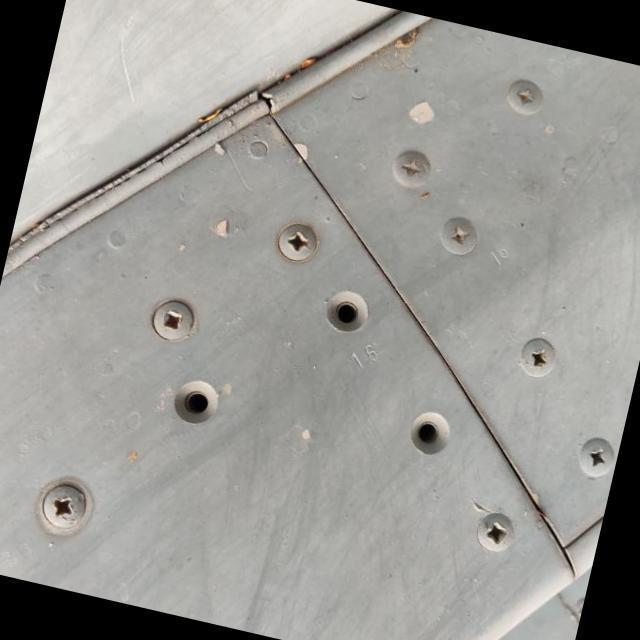Missing Fastener: (164, 377, 230, 429), (318, 284, 374, 340), (404, 410, 452, 460)
